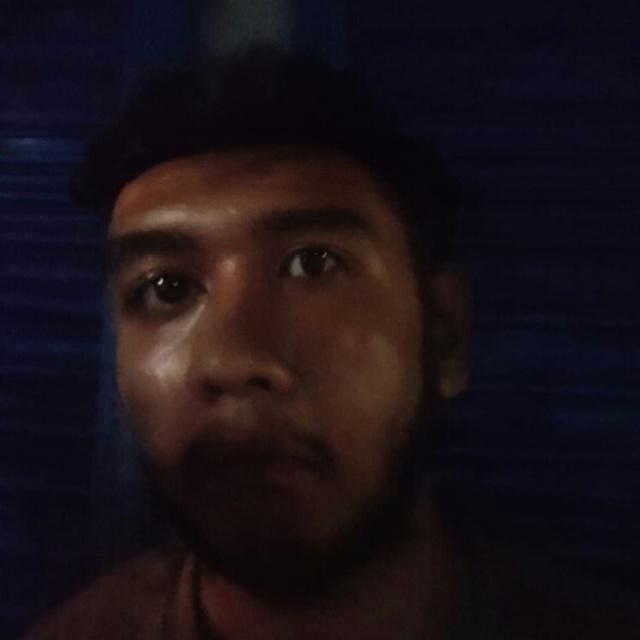Sad: (72, 83, 498, 640)
